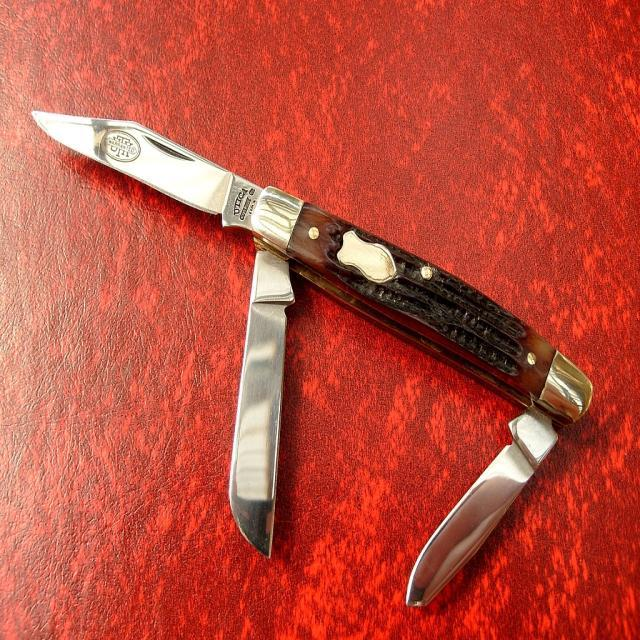Knife: (32, 111, 592, 606)
